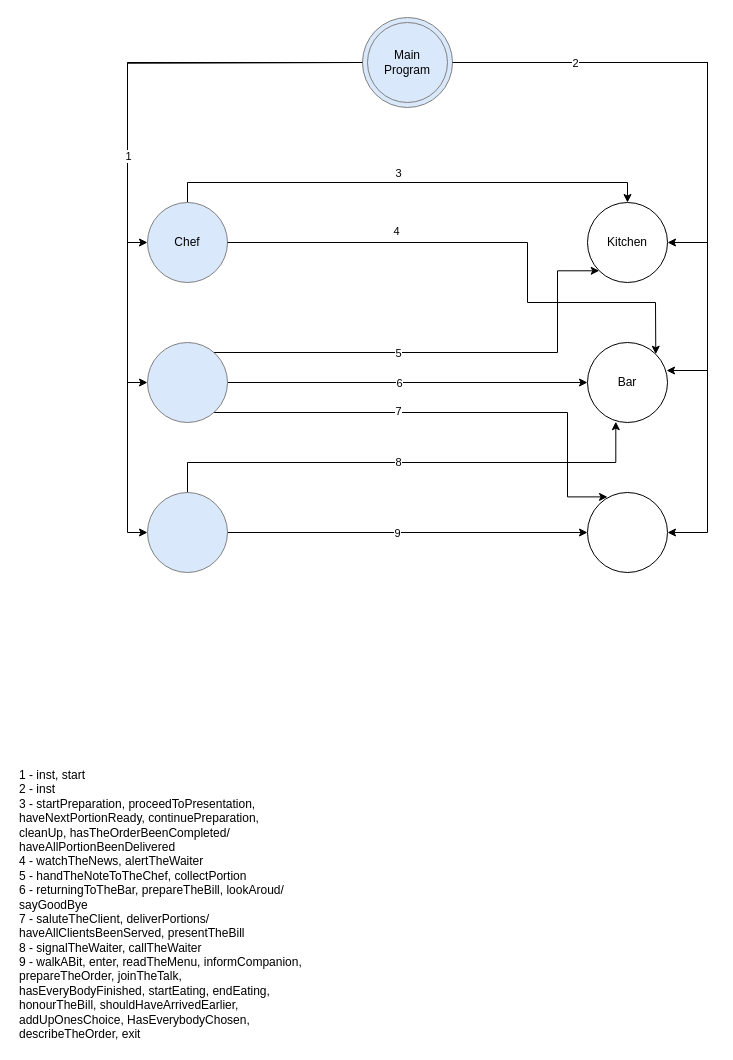
This 733x1060 diagram has some shape labels left out. Each missing label, with the centre of its shape:
Student[n] n=0..7: the point at 187,532
Table: the point at 627,532
Waiter: the point at 187,382
